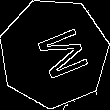M_W: (22, 22, 86, 84)
